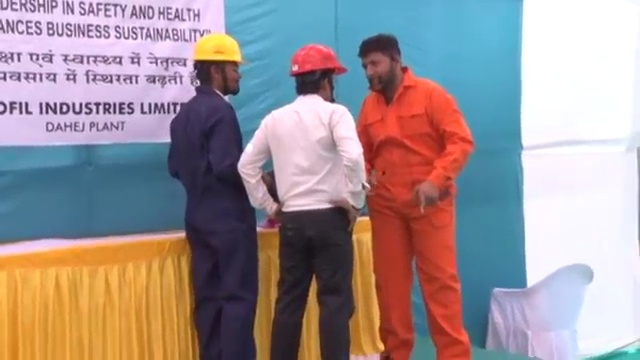helmet: (286, 42, 349, 77), (189, 32, 248, 69)
helmet_off: (359, 33, 405, 94)
helmet_on: (284, 42, 349, 104), (189, 31, 247, 96)
person: (238, 39, 361, 360), (356, 38, 478, 360), (165, 33, 261, 360)
